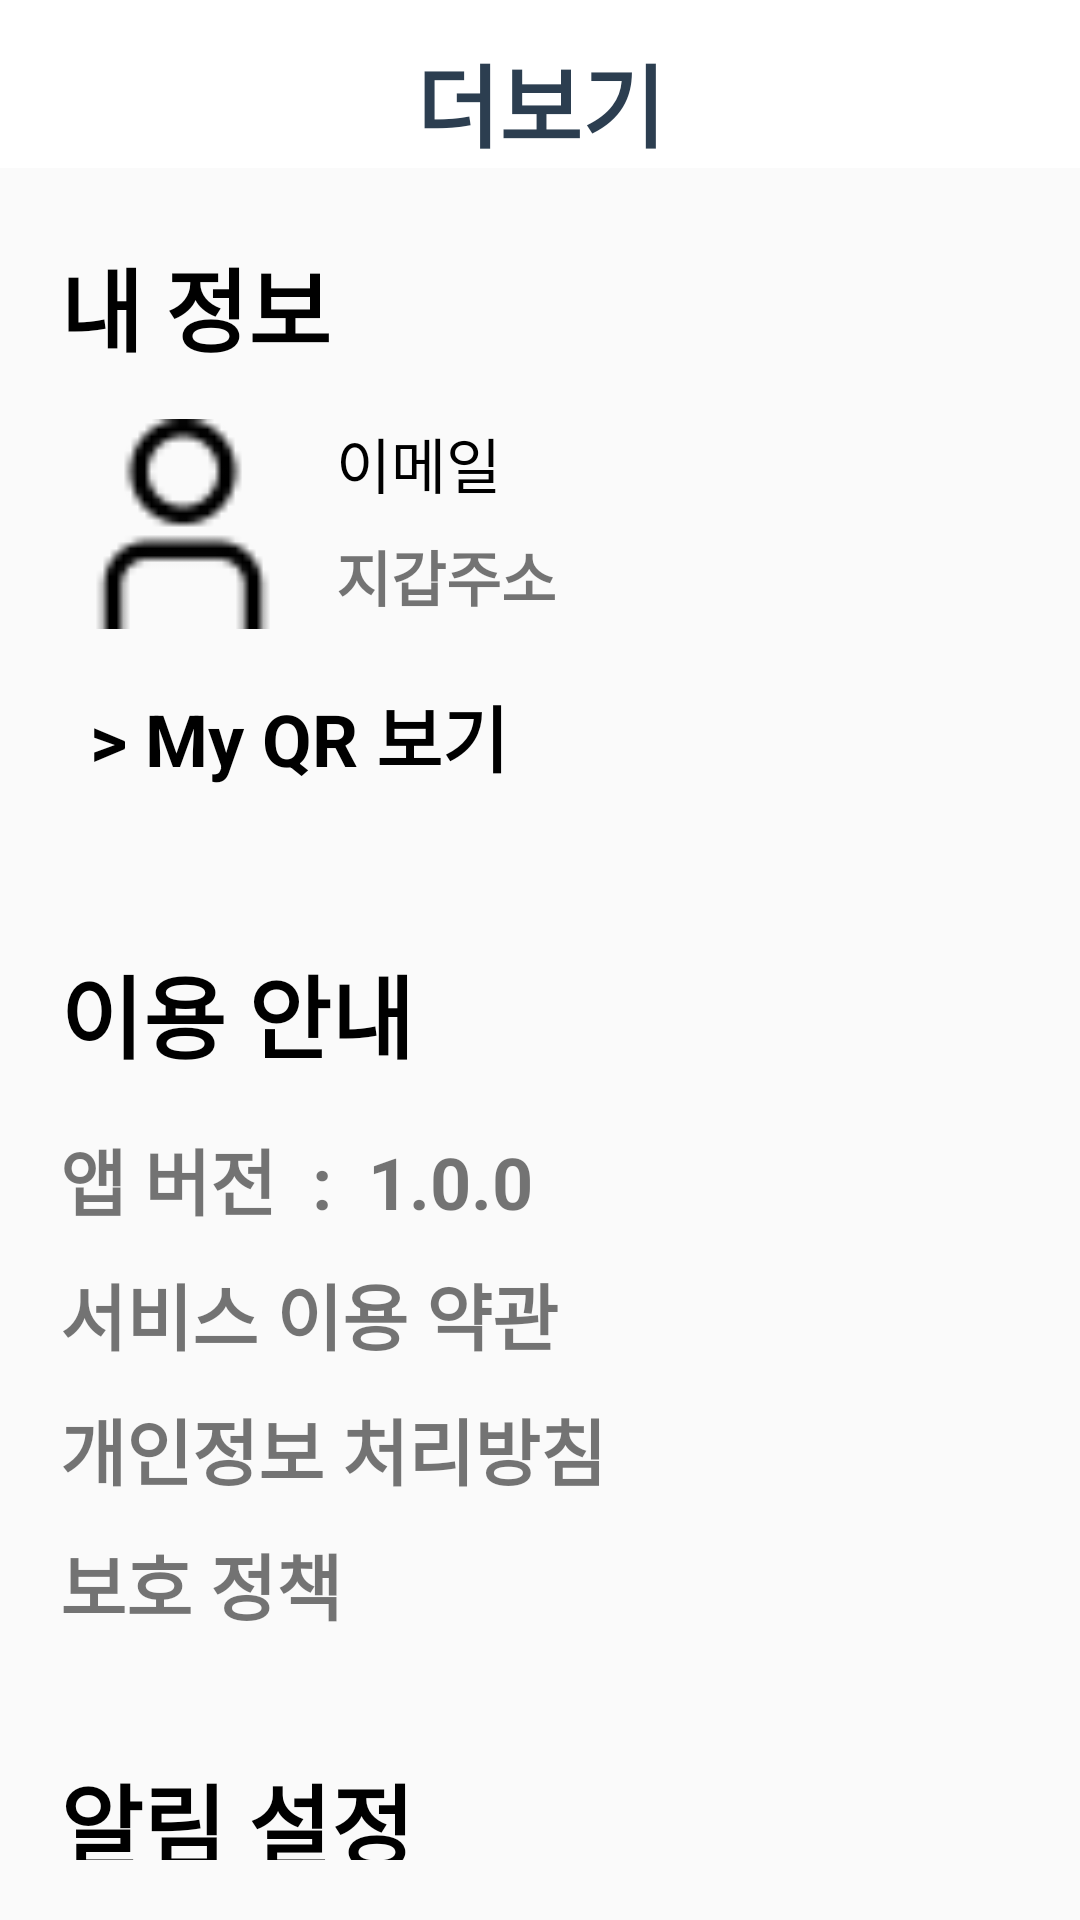

Named icons in this screenshot (1080px x 1920px) and their centers, (x=x, y=y):
user: (x=183, y=524)
